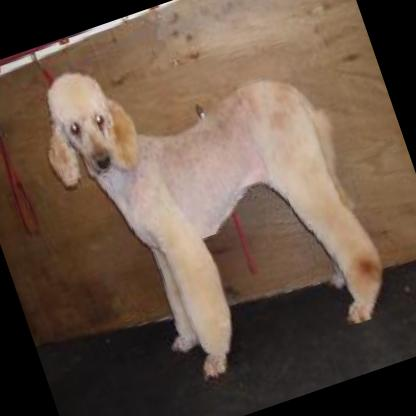standard_poodle: (22, 0, 399, 405)
